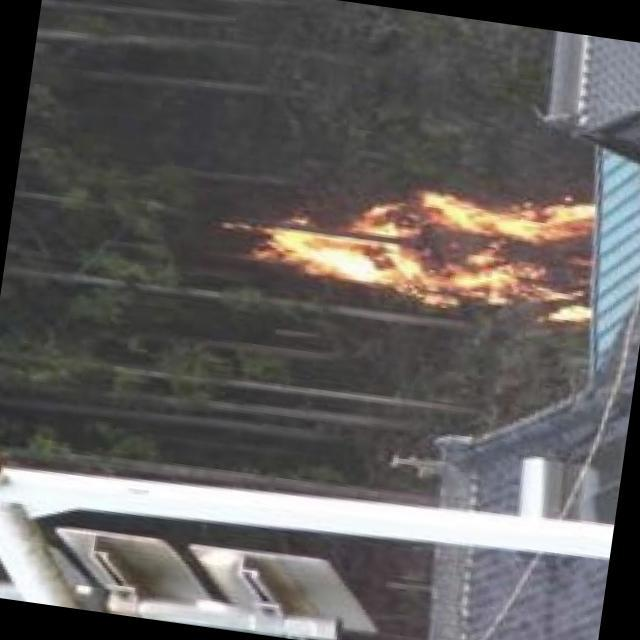Fire: (251, 161, 607, 347)
